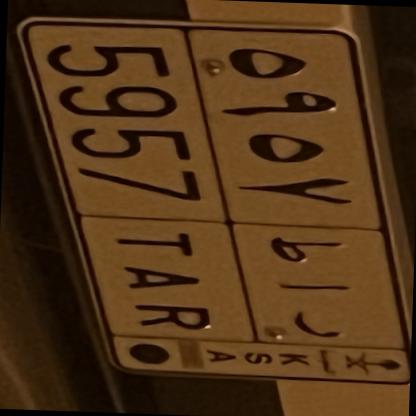english: (31, 25, 218, 341)
